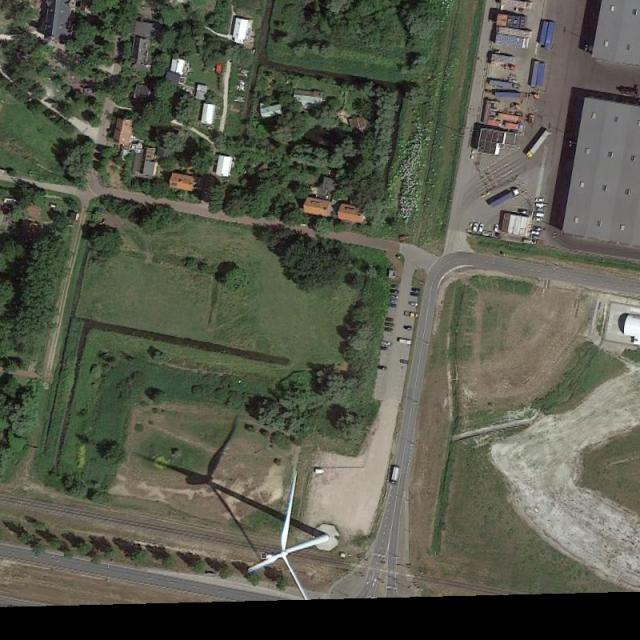vehicle: (526, 129, 553, 160), (488, 188, 520, 209), (389, 466, 401, 486), (404, 310, 418, 318), (398, 338, 414, 345), (380, 341, 393, 348), (472, 222, 479, 234), (478, 223, 485, 234), (377, 365, 389, 371), (378, 346, 390, 352), (534, 207, 546, 213), (493, 224, 500, 234), (410, 286, 421, 292), (384, 317, 395, 323), (383, 327, 394, 333), (530, 230, 541, 236), (384, 322, 394, 328), (534, 213, 546, 218), (533, 216, 543, 222), (534, 202, 545, 207), (389, 289, 399, 294), (389, 294, 399, 299), (533, 226, 543, 231), (403, 326, 414, 330), (399, 359, 410, 363), (390, 283, 400, 287), (408, 302, 418, 306), (536, 198, 546, 202), (386, 303, 396, 306), (410, 292, 420, 295)
